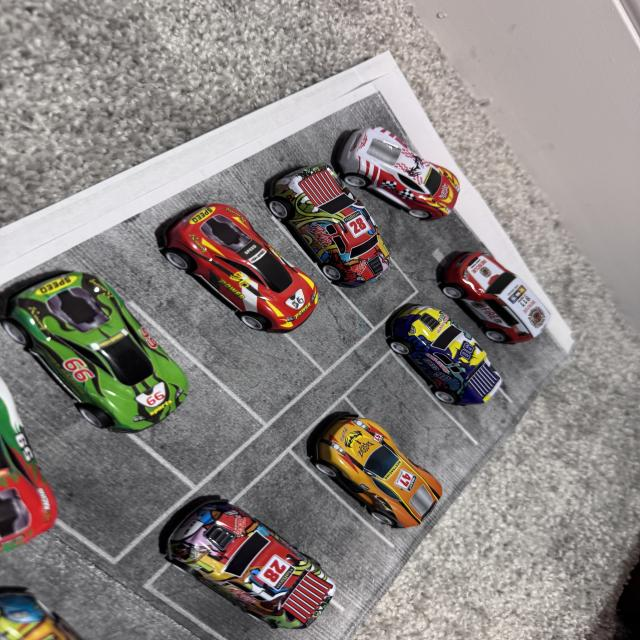Car: (0, 278, 217, 446), (143, 493, 385, 640), (281, 417, 527, 559), (359, 291, 557, 438), (158, 202, 345, 336), (258, 162, 431, 288), (306, 109, 498, 210), (422, 227, 570, 349)
